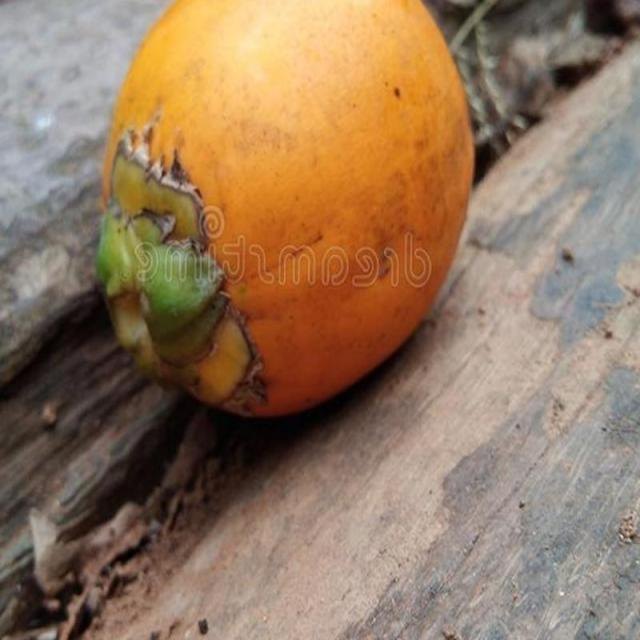good: (96, 0, 477, 423)
